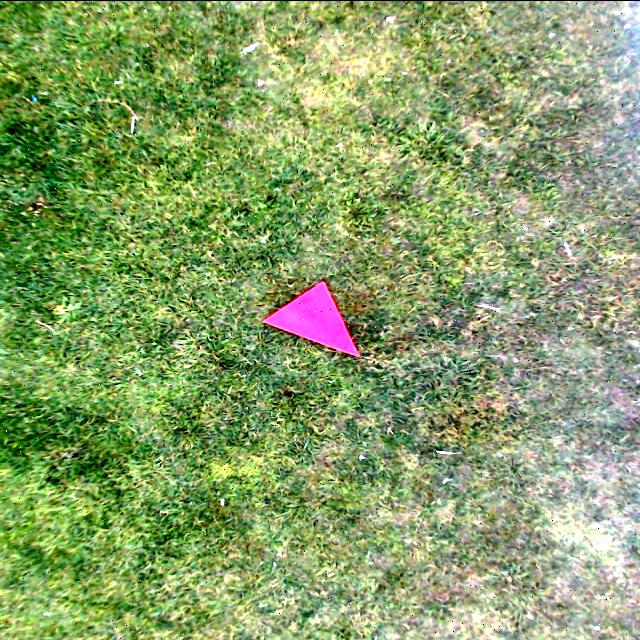red_triangle: (264, 280, 361, 358)
